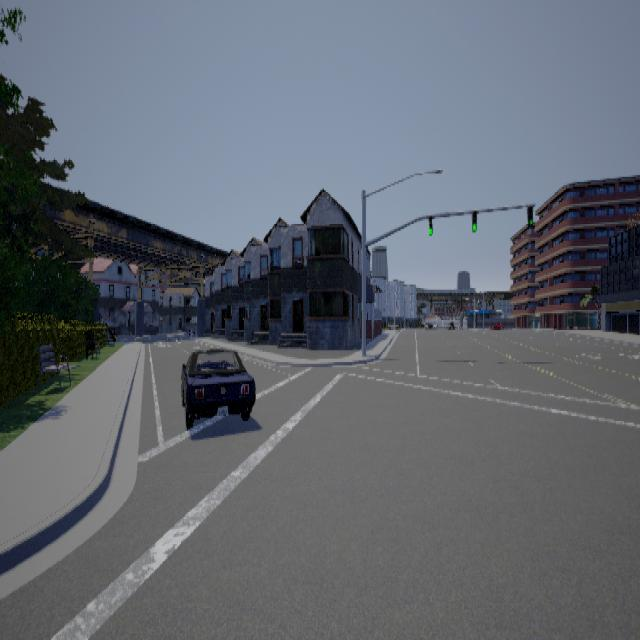green_light: (528, 203, 534, 226), (473, 209, 478, 231), (430, 214, 434, 234)
vehicle: (182, 347, 257, 428)
